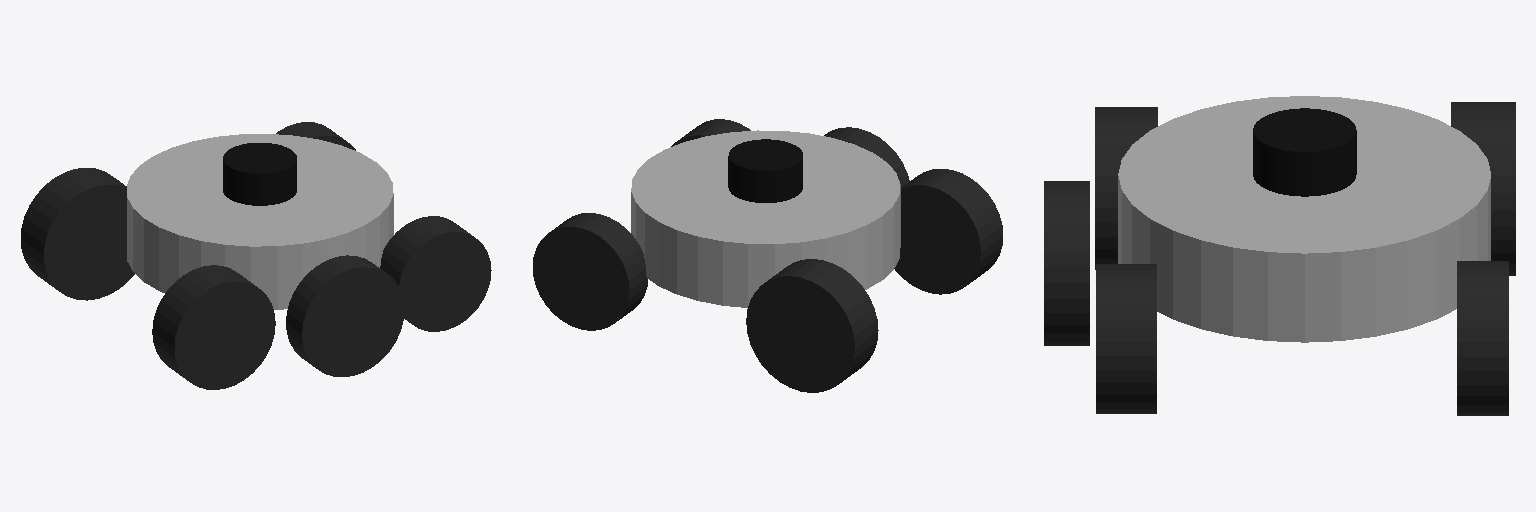
URDF robot description (evolved_robot):
<?xml version="1.0"?>
<robot name="evolved_robot">
  <material name="metal">
    <color rgba="0.7 0.7 0.7 1.0"/>
  </material>
  <material name="plastic">
    <color rgba="0.3 0.3 0.9 1.0"/>
  </material>
  <material name="rubber">
    <color rgba="0.1 0.1 0.1 1.0"/>
  </material>
  <material name="red">
    <color rgba="1.0 0.0 0.0 1.0"/>
  </material>
  <material name="wheel_material">
    <color rgba="0.2 0.2 0.2 1.0"/>
  </material>
  <link name="base_link">
    <visual>
      <geometry><cylinder radius="0.20975155643814744" length="0.11039709175699786"/></geometry>
      <material name="metal"/>
    </visual>
    <collision>
      <geometry><cylinder radius="0.20975155643814744" length="0.11039709175699786"/></geometry>
    </collision>
    <inertial>
      <mass value="5.0"/>
      <inertia ixx="0.12014555346089921" ixy="0" ixz="0" 
               iyy="0.12014555346089921" iyz="0" 
               izz="0.21997857714112673"/>
    </inertial>
  </link>
  <link name="link1">
    <visual>
      <geometry>
        <cylinder radius="0.08711925243107854" length="0.059151969912863825"/>
      </geometry>
      <material name="wheel_material"/>
    </visual>
    <collision>
      <geometry>
        <cylinder radius="0.08711925243107854" length="0.059151969912863825"/>
      </geometry>
    </collision>
    <inertial>
      <mass value="1.0"/>
      <inertia ixx="0.0021890206647518584" ixy="0" ixz="0" 
               iyy="0.0021890206647518584" iyz="0" 
               izz="0.003794882072074992"/>
    </inertial>
  </link>
  <joint name="joint1" type="continuous">
    <parent link="base_link"/>
    <child link="link1"/>
    <origin xyz="0.19910758744443133 0.20039552543186356 -0.05519854587849893" rpy="1.5708 0 0"/>
    <axis xyz="0 1 0"/>
    <dynamics damping="0.14939620959536964" friction="0.1"/>
  </joint>
  <link name="link2">
    <visual>
      <geometry>
        <cylinder radius="0.08430237953468384" length="0.06891353730799647"/>
      </geometry>
      <material name="wheel_material"/>
    </visual>
    <collision>
      <geometry>
        <cylinder radius="0.08430237953468384" length="0.06891353730799647"/>
      </geometry>
    </collision>
    <inertial>
      <mass value="1.0"/>
      <inertia ixx="0.002172479100827522" ixy="0" ixz="0" 
               iyy="0.002172479100827522" iyz="0" 
               izz="0.00355344559760494"/>
    </inertial>
  </link>
  <joint name="joint2" type="continuous">
    <parent link="base_link"/>
    <child link="link2"/>
    <origin xyz="0.19910758744443133 -0.20039552543186356 -0.05519854587849893" rpy="1.5708 0 0"/>
    <axis xyz="0 1 0"/>
    <dynamics damping="0.8760423411983852" friction="0.1"/>
  </joint>
  <link name="link3">
    <visual>
      <geometry>
        <cylinder radius="0.09781885605301584" length="0.07281740256203384"/>
      </geometry>
      <material name="wheel_material"/>
    </visual>
    <collision>
      <geometry>
        <cylinder radius="0.09781885605301584" length="0.07281740256203384"/>
      </geometry>
    </collision>
    <inertial>
      <mass value="1.0"/>
      <inertia ixx="0.0028339966595369325" ixy="0" ixz="0" 
               iyy="0.0028339966595369325" iyz="0" 
               izz="0.004784264299760316"/>
    </inertial>
  </link>
  <joint name="joint3" type="continuous">
    <parent link="base_link"/>
    <child link="link3"/>
    <origin xyz="-0.19910758744443133 0.20039552543186356 -0.05519854587849893" rpy="1.5708 0 0"/>
    <axis xyz="0 1 0"/>
    <dynamics damping="0.8020730030961195" friction="0.1"/>
  </joint>
  <link name="link4">
    <visual>
      <geometry>
        <cylinder radius="0.09164968573840071" length="0.06982136232657024"/>
      </geometry>
      <material name="wheel_material"/>
    </visual>
    <collision>
      <geometry>
        <cylinder radius="0.09164968573840071" length="0.06982136232657024"/>
      </geometry>
    </collision>
    <inertial>
      <mass value="1.0"/>
      <inertia ixx="0.0025061681104150864" ixy="0" ixz="0" 
               iyy="0.0025061681104150864" iyz="0" 
               izz="0.004199832447973805"/>
    </inertial>
  </link>
  <joint name="joint4" type="continuous">
    <parent link="base_link"/>
    <child link="link4"/>
    <origin xyz="-0.19910758744443133 -0.20039552543186356 -0.05519854587849893" rpy="1.5708 0 0"/>
    <axis xyz="0 1 0"/>
    <dynamics damping="0.7599283069278768" friction="0.1"/>
  </joint>
  <link name="link5">
    <visual>
      <geometry><cylinder radius="0.05826317757477067" length="0.11052951426080167"/></geometry>
      <material name="rubber"/>
    </visual>
    <collision>
      <geometry><cylinder radius="0.05826317757477067" length="0.11052951426080167"/></geometry>
    </collision>
    <inertial>
      <mass value="0.5"/>
      <inertia ixx="0.0018667139255047116" ixy="0" ixz="0" 
               iyy="0.0018667139255047116" iyz="0" 
               izz="0.0016972989305546297"/>
    </inertial>
  </link>
  <joint name="joint5" type="revolute">
    <parent link="base_link"/>
    <child link="link5"/>
    <origin xyz="0 0 0.05519854587849893" rpy="0 0 0"/>
    <axis xyz="-0.5586181763287494 0.8293660339366284 0.009885081050211728"/>
    <dynamics damping="0.8070610720656851" friction="0.1"/>
    <limit lower="-1.4907740569465753" upper="1.0783039553562597" effort="100" velocity="100"/>
  </joint>
  <link name="link6">
    <visual>
      <geometry>
        <cylinder radius="0.09294359597280032" length="0.050745151158266846"/>
      </geometry>
      <material name="wheel_material"/>
    </visual>
    <collision>
      <geometry>
        <cylinder radius="0.09294359597280032" length="0.050745151158266846"/>
      </geometry>
    </collision>
    <inertial>
      <mass value="1.0"/>
      <inertia ixx="0.0023742172052617317" ixy="0" ixz="0" 
               iyy="0.0023742172052617317" iyz="0" 
               izz="0.004319256016177572"/>
    </inertial>
  </link>
  <joint name="joint6" type="continuous">
    <parent link="base_link"/>
    <child link="link6"/>
    <origin xyz="0 -0.2671940339091514 -0.05519854587849893" rpy="1.5708 0 0"/>
    <axis xyz="0 1 0"/>
    <dynamics damping="0.6162223426084045" friction="0.1"/>
  </joint>
</robot>

--- Render facts (derived) ---
Views: 3 orthographic renders of the robot side by side, from view 1: azimuth 30°, elevation 25°; view 2: azimuth 150°, elevation 25°; view 3: azimuth 270°, elevation 25°.
Model evolved_robot with 7 links and 6 joints (1 revolute, 5 continuous), rooted at base_link, posed every joint at zero.
Links seen in each view (by area): view 1: base_link, link4, link3, link6, link2, link5, link1; view 2: base_link, link3, link4, link1, link5, link6, link2; view 3: base_link, link2, link5, link1, link6, link3, link4.
Link boxes in pixels (x1,y1,x2,y2): base_link: (127,134,393,309); link4: (152,265,275,389); link3: (21,168,134,300); link6: (286,255,404,376); link2: (380,216,491,331); link5: (223,143,296,205); link1: (276,122,355,150); base_link: (631,130,900,307); link3: (746,259,878,392); link4: (894,169,1002,294); link1: (533,213,647,330); link5: (728,139,802,202); link6: (824,127,909,187); link2: (671,119,750,146); base_link: (1118,96,1490,342); link2: (1096,264,1156,413); link5: (1253,108,1356,196); link1: (1457,261,1508,415); link6: (1044,181,1089,345); link3: (1451,102,1515,275); link4: (1095,107,1157,269).
Bounding box of the posed robot: 0.5832 × 0.5294 × 0.2635 m (x, y, z).
Geometry: primitives only (box / cylinder / sphere), no mesh files.